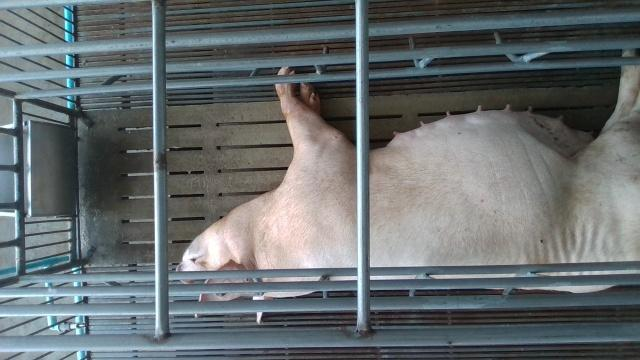sow-sleep-lactate: (177, 48, 640, 318)
